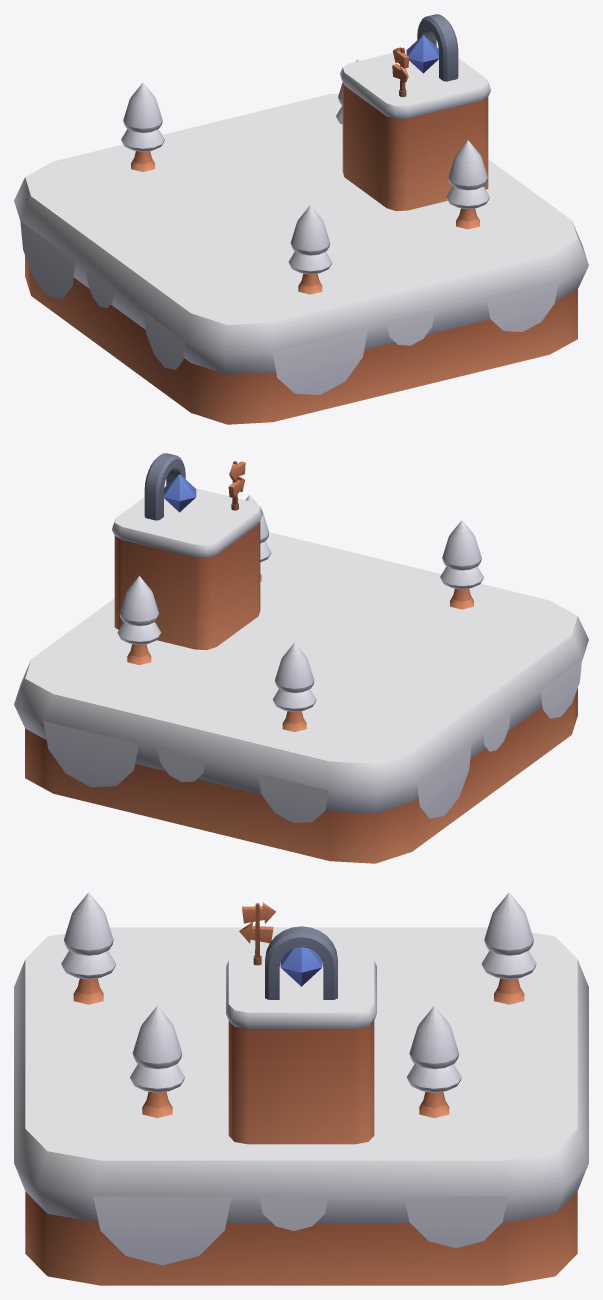
The picture shows the model from 3 angles, top to bottom: view 1: azimuth 30°, elevation 25°; view 2: azimuth 150°, elevation 25°; view 3: azimuth 270°, elevation 25°; orthographic projection. The views are drawn at different scales.
Visible parts, largest first — view 1: block-snow-overhang-low-large.001, block-snow-large-tall.001, tree-pine-snow.003, tree-pine-snow.004, tree-pine-snow.001, door-large-open.001, jewel.001, arrows.001; view 2: block-snow-overhang-low-large.001, block-snow-large-tall.001, tree-pine-snow.004, tree-pine-snow.002, tree-pine-snow.003, door-large-open.001, jewel.001, arrows.001; view 3: block-snow-overhang-low-large.001, block-snow-large-tall.001, tree-pine-snow.002, tree-pine-snow.003, tree-pine-snow.004, tree-pine-snow.001, door-large-open.001, arrows.001, jewel.001.
Boxes of the visible parts, x1=… form: block-snow-overhang-low-large.001: x1=14, y1=93, x2=588, y2=424; block-snow-large-tall.001: x1=340, y1=45, x2=490, y2=211; tree-pine-snow.003: x1=288, y1=205, x2=332, y2=294; tree-pine-snow.004: x1=121, y1=83, x2=164, y2=171; tree-pine-snow.001: x1=446, y1=140, x2=489, y2=229; door-large-open.001: x1=417, y1=14, x2=458, y2=81; jewel.001: x1=406, y1=35, x2=438, y2=73; arrows.001: x1=392, y1=47, x2=409, y2=97; block-snow-overhang-low-large.001: x1=14, y1=533, x2=588, y2=863; block-snow-large-tall.001: x1=112, y1=484, x2=262, y2=650; tree-pine-snow.004: x1=272, y1=642, x2=316, y2=731; tree-pine-snow.002: x1=117, y1=575, x2=161, y2=664; tree-pine-snow.003: x1=440, y1=520, x2=483, y2=609; door-large-open.001: x1=144, y1=453, x2=185, y2=520; jewel.001: x1=164, y1=474, x2=196, y2=512; arrows.001: x1=228, y1=461, x2=245, y2=510; block-snow-overhang-low-large.001: x1=14, y1=927, x2=588, y2=1285; block-snow-large-tall.001: x1=226, y1=951, x2=376, y2=1144; tree-pine-snow.002: x1=407, y1=1006, x2=461, y2=1117; tree-pine-snow.003: x1=61, y1=892, x2=115, y2=1004; tree-pine-snow.004: x1=481, y1=892, x2=536, y2=1004; tree-pine-snow.001: x1=130, y1=1006, x2=184, y2=1117; door-large-open.001: x1=265, y1=926, x2=337, y2=999; arrows.001: x1=239, y1=902, x2=275, y2=965; jewel.001: x1=280, y1=947, x2=322, y2=986.
Size of the model in its own units: 39.56 by 24.53 by 39.56.
Materials: 9 (9 with a texture image).
